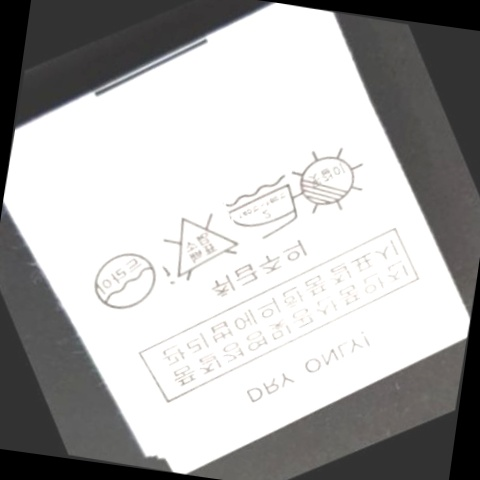dry_clean: (90, 245, 160, 317)
iron_medium: (227, 170, 303, 243)
line_dry_in_shade: (288, 141, 365, 222)
non_chlorine_bleach: (154, 199, 240, 287)
